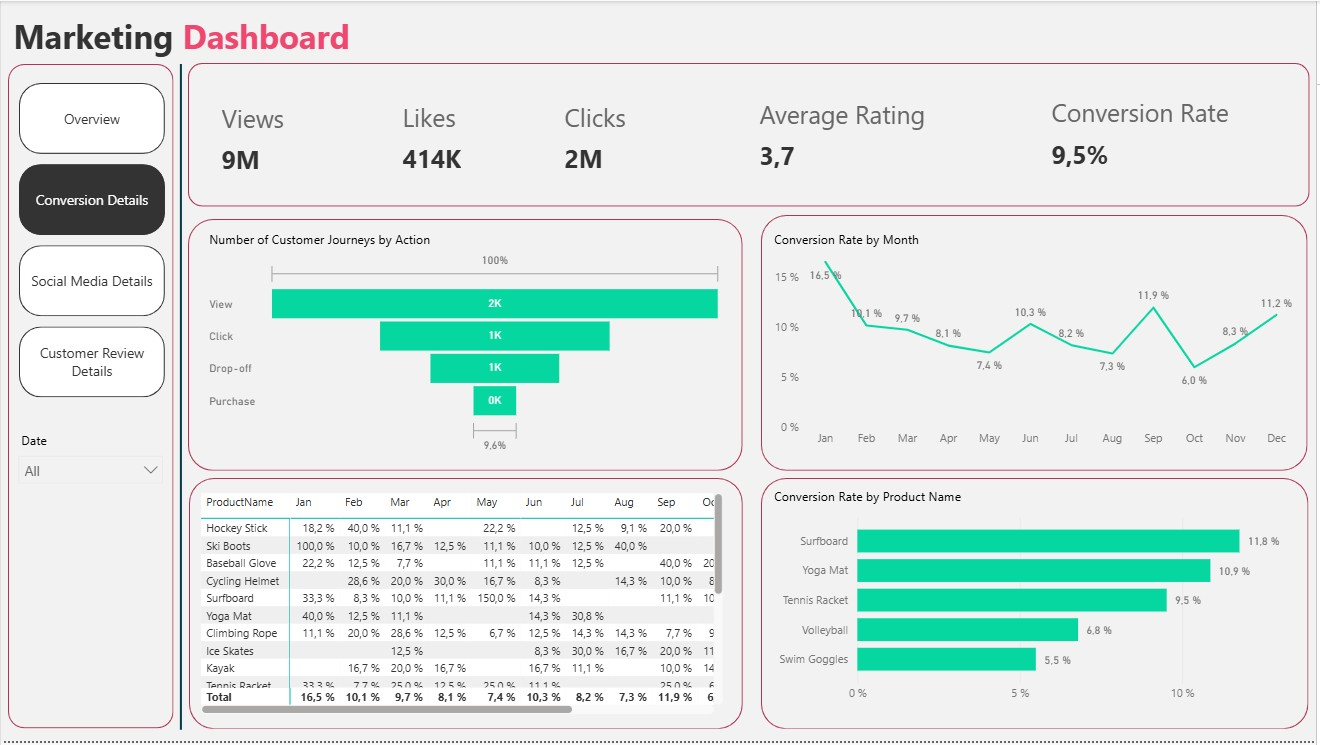

This screenshot's page, from the dashboard's own definition file:
{"tool":"powerbi","page":{"name":"Conversion Details","canvas":[1280,720],"ordinal":1},"visuals":[{"type":"shape","box":[739.7,463.9,532.8,244.5],"z":0},{"type":"shape","box":[740.2,208.1,532,249],"z":1000},{"type":"shape","box":[182.7,463.9,539.1,244.5],"z":2000},{"type":"shape","box":[7.2,61.8,161.2,646.6],"z":3000},{"type":"shape","box":[181.9,212,539.8,245.1],"z":4000},{"type":"shape","box":[181.8,60,1091.6,139.7],"z":5000},{"type":"cardVisual","fields":{"Data":["_Calculations.Conversion Rate"]},"box":[1005.7,66.1,215.9,124.5],"z":6000},{"type":"cardVisual","fields":{"Data":["_Calculations.Rating (Average)"]},"box":[721.7,73.9,235.4,112.8],"z":7000},{"type":"cardVisual","fields":{"Data":["_Calculations.Views"]},"box":[197.4,75.9,157.6,116.7],"z":12000},{"type":"cardVisual","fields":{"Data":["_Calculations.Clicks"]},"box":[531.1,75.9,176,114.8],"z":13000},{"type":"cardVisual","fields":{"Data":["_Calculations.Likes"]},"box":[373.5,75.9,157.6,114.8],"z":14000},{"type":"shape","box":[168.4,61.8,13.4,648.4],"z":15000},{"type":"pageNavigator","box":[17.5,79.8,143,306.4],"z":16000},{"type":"slicer","fields":{"Values":["Calendar.YearMonthShort"]},"box":[6.8,414.3,161.5,59.3],"z":17000},{"type":"textbox","box":[6.8,6.8,366.7,53.5],"z":18000},{"type":"funnel","fields":{"Category":["fact_customer_journey.Action"],"Y":["_Calculations.Number of Customer Journeys"]},"box":[197.6,223.9,510.1,220],"z":18001},{"type":"lineChart","fields":{"Category":["Calendar.MonthNameShort"],"Y":["_Calculations.Conversion Rate"]},"box":[747.6,223.9,514.9,220],"z":18002},{"type":"pivotTable","fields":{"Columns":["Calendar.MonthNameShort"],"Rows":["dim_products.ProductName"],"Values":["_Calculations.Conversion Rate"]},"box":[189.8,474,517.8,224.9],"z":18003},{"type":"clusteredBarChart","fields":{"Category":["dim_products.ProductName"],"Y":["_Calculations.Conversion Rate"]},"box":[747.6,474,514.9,218],"z":18004}]}

Visuals, with their boxes in screenshot pixels (x1, y1, x2, y2), scaled from the page's 1280x720 canvas onto the 1320x745 screenshot:
shape: <region>763, 480, 1312, 733</region>
shape: <region>763, 215, 1312, 473</region>
shape: <region>188, 480, 744, 733</region>
shape: <region>7, 64, 174, 733</region>
shape: <region>188, 219, 744, 473</region>
shape: <region>187, 62, 1313, 207</region>
cardVisual - _Calculations.Conversion Rate: <region>1037, 68, 1260, 197</region>
cardVisual - _Calculations.Rating (Average): <region>744, 76, 987, 193</region>
cardVisual - _Calculations.Views: <region>204, 79, 366, 199</region>
cardVisual - _Calculations.Clicks: <region>548, 79, 729, 197</region>
cardVisual - _Calculations.Likes: <region>385, 79, 548, 197</region>
shape: <region>174, 64, 187, 735</region>
pageNavigator: <region>18, 83, 166, 400</region>
slicer - Calendar.YearMonthShort: <region>7, 429, 174, 490</region>
textbox: <region>7, 7, 385, 62</region>
funnel - fact_customer_journey.Action x _Calculations.Number of Customer Journeys: <region>204, 232, 730, 459</region>
lineChart - Calendar.MonthNameShort x _Calculations.Conversion Rate: <region>771, 232, 1302, 459</region>
pivotTable - Calendar.MonthNameShort x dim_products.ProductName: <region>196, 490, 730, 723</region>
clusteredBarChart - dim_products.ProductName x _Calculations.Conversion Rate: <region>771, 490, 1302, 716</region>
